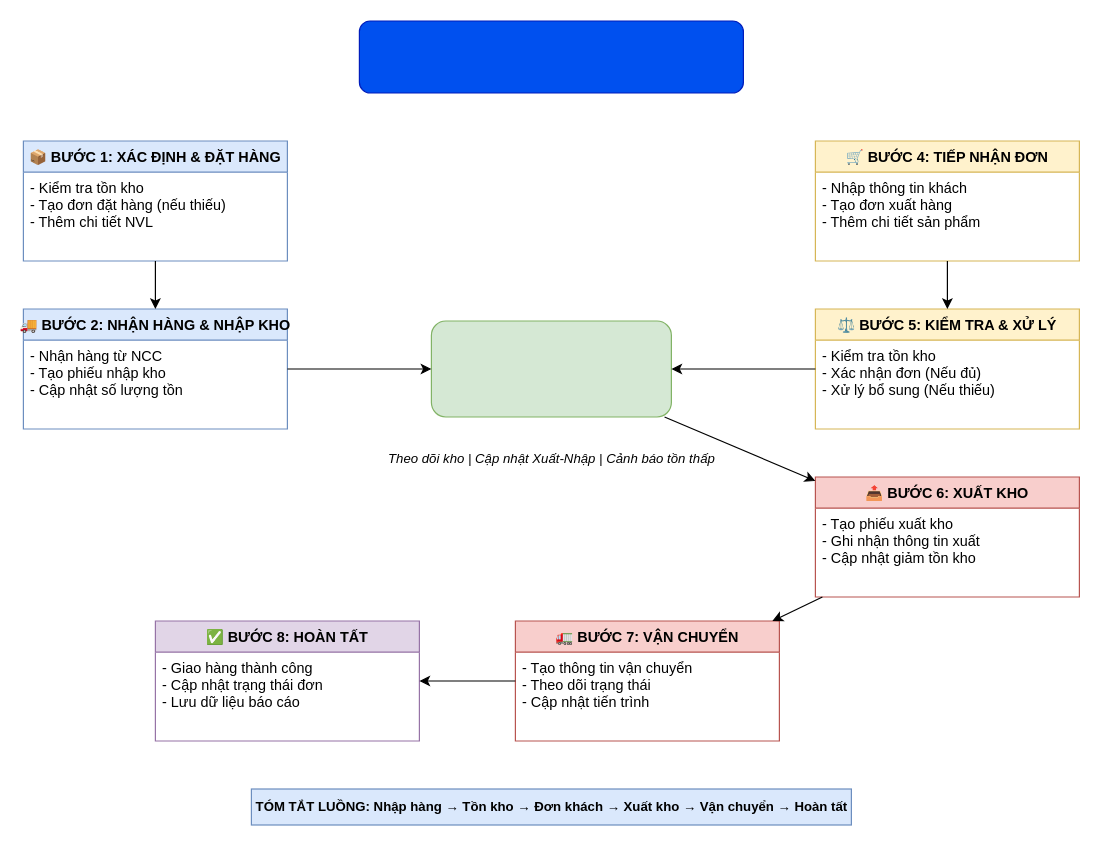
The diagram is 1102 pixels wide and 846 high, and some of its shapes have lost their labels. The centre of each missing label's shape, as x and y in pixels:
QUY TRÌNH QUẢN LÝ KHO & BÁN HÀNG: the point at 550,56
🏠 BƯỚC 3: QUẢN LÝ TỒN KHO: the point at 550,368
